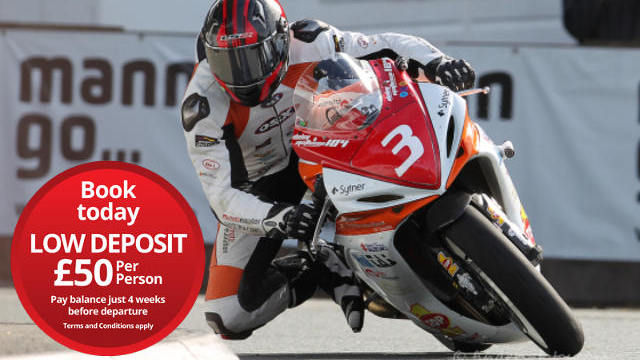helmet: (190, 3, 304, 109)
